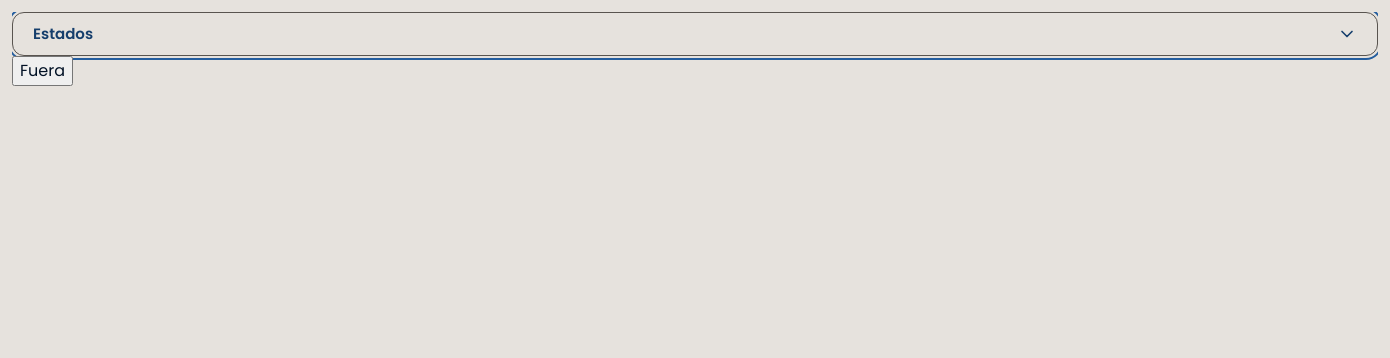
Test case: selector múltiple accesible › devuelve el foco al disparador al cerrar con Cerrar filtro de estados
Press Enter
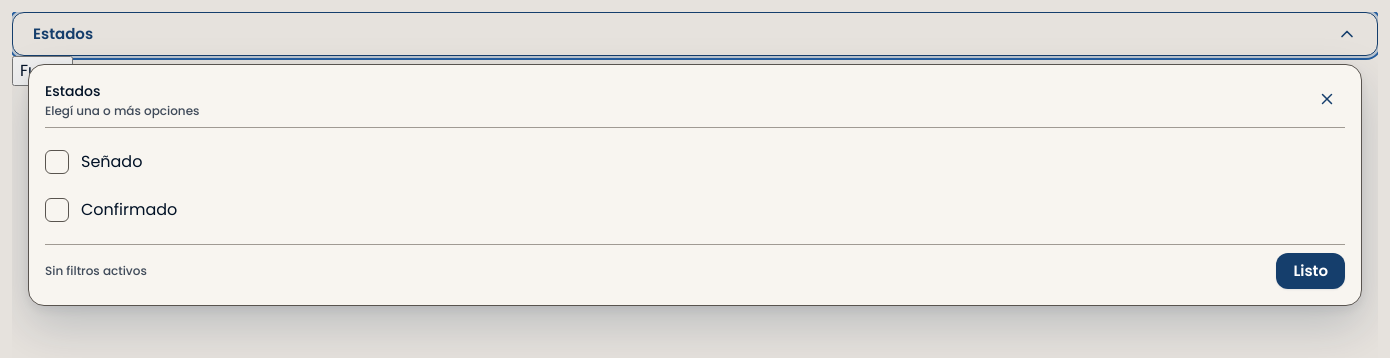
Now the button "Estados" is expanded, box [12,12,1378,56]
Click the button named "Cerrar filtro de estados" at (1327, 99), box [1309,81,1345,117]
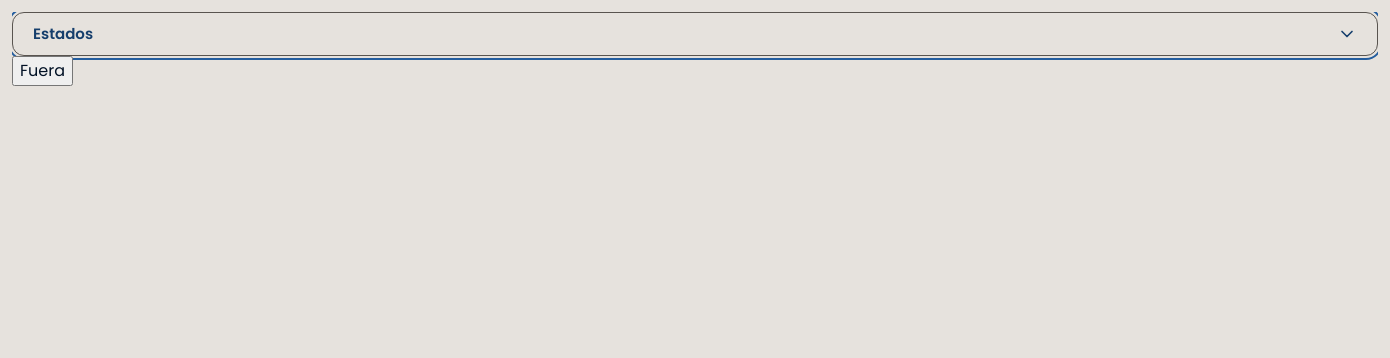
Now the button "Estados" is collapsed, box [12,12,1378,56]
